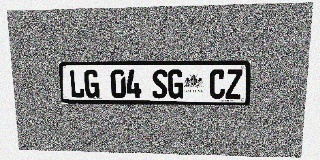0: (110, 70, 126, 98)
4: (126, 70, 141, 98)
C: (209, 69, 226, 99)
G: (168, 69, 184, 99), (84, 70, 100, 98)
L: (69, 70, 85, 98)
S: (152, 70, 167, 99)
Z: (225, 69, 243, 99)
